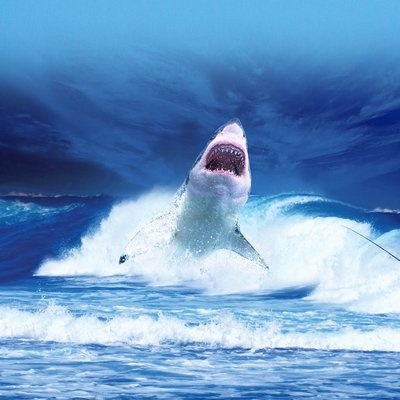fish: (117, 116, 274, 276)
